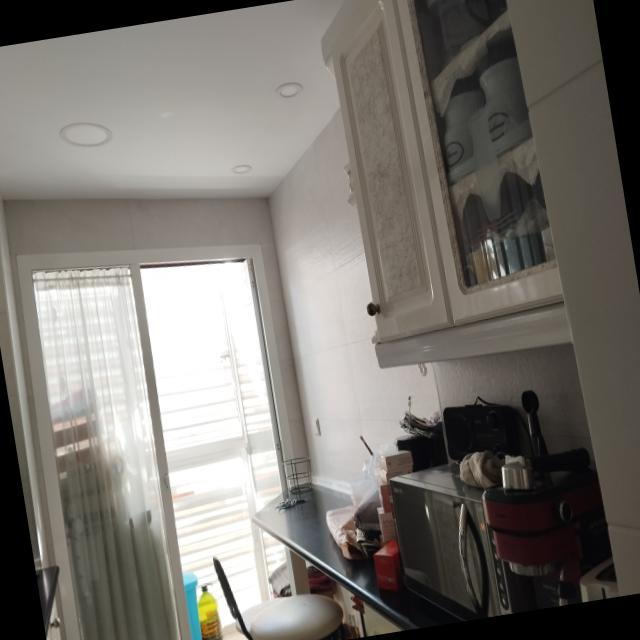cabinet: (322, 0, 572, 370)
chair: (214, 556, 350, 640)
countertop: (253, 486, 463, 630)
microwave: (390, 464, 536, 621)
